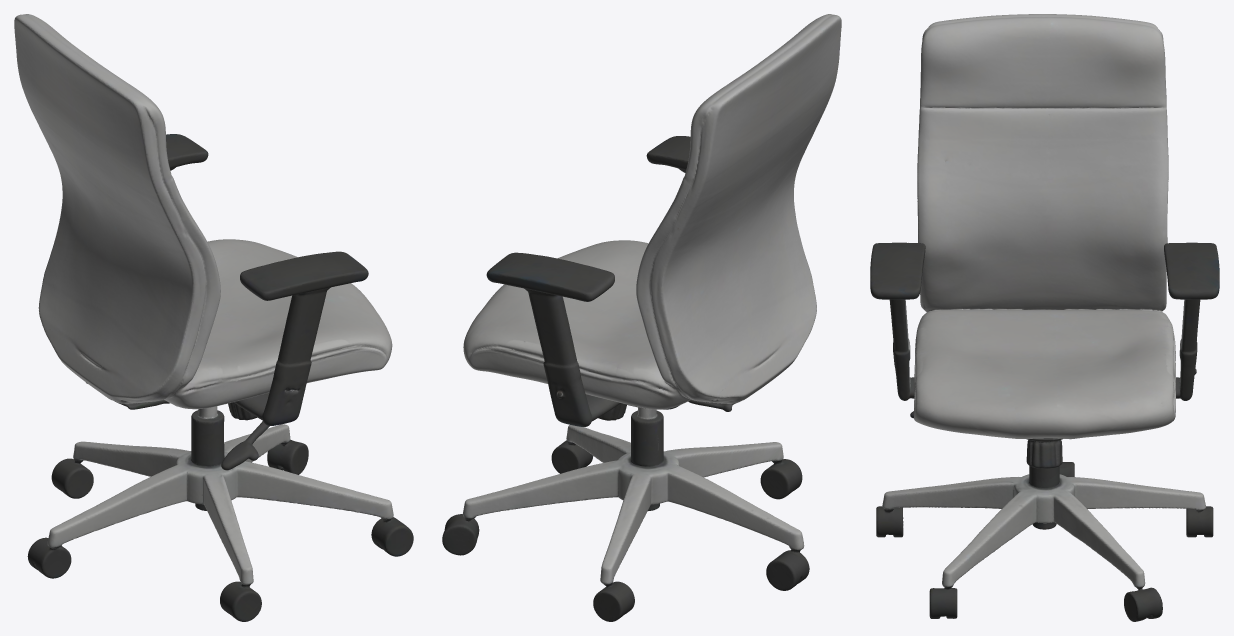
File: modern_office_chair_padded_27.glb
3 views of the same model, side by side, from view 1: azimuth 30°, elevation 25°; view 2: azimuth 150°, elevation 25°; view 3: azimuth 270°, elevation 25° (orthographic). The views are drawn at different scales.
Visible parts, largest first — view 1: tripo_node_6135d7cd-9b84-4f3c-9976-78ffed663cb7; view 2: tripo_node_6135d7cd-9b84-4f3c-9976-78ffed663cb7; view 3: tripo_node_6135d7cd-9b84-4f3c-9976-78ffed663cb7.
Part boxes in pixels (bbox=[...]): tripo_node_6135d7cd-9b84-4f3c-9976-78ffed663cb7: bbox=[14, 14, 413, 621]; tripo_node_6135d7cd-9b84-4f3c-9976-78ffed663cb7: bbox=[442, 14, 841, 621]; tripo_node_6135d7cd-9b84-4f3c-9976-78ffed663cb7: bbox=[870, 14, 1219, 621].
Size of the model in its own units: 0.6327 by 1 by 0.6568.
Materials: 1 (1 with a texture image).
